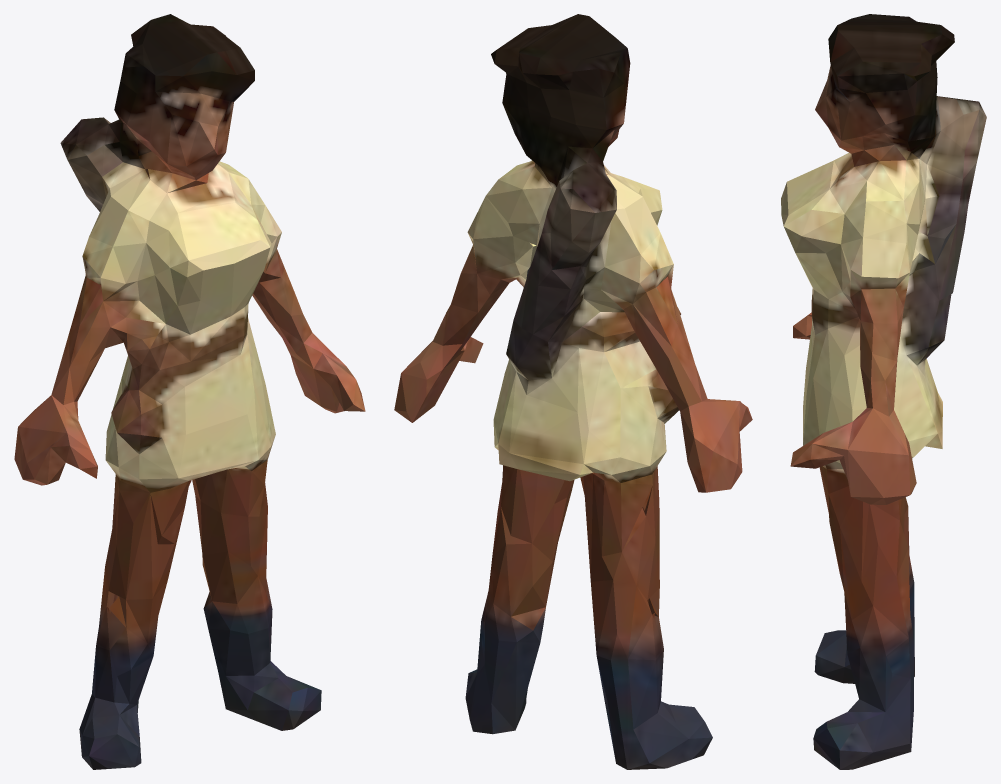
Rendered from habitant-loin.glb.
3 views of the same model, side by side, from view 1: azimuth 30°, elevation 25°; view 2: azimuth 150°, elevation 25°; view 3: azimuth 270°, elevation 25° (orthographic). The views are drawn at different scales.
Visible parts, largest first — view 1: habitant; view 2: habitant; view 3: habitant.
Part boxes in pixels (x1,y1,x2,y2): habitant: [14, 14, 365, 769]; habitant: [394, 14, 752, 769]; habitant: [781, 14, 986, 769].
Bounding box in the file's own units: 0.4863 × 1.01 × 0.2715.
1 material, 1 textured.
